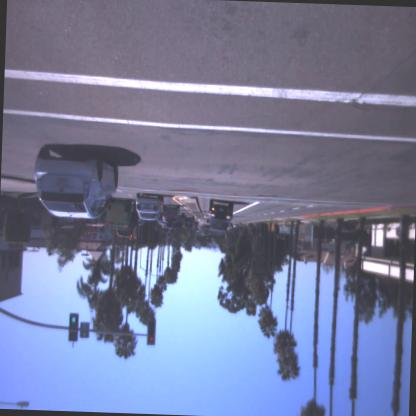trafficlight: (66, 306, 81, 348), (143, 314, 159, 350)
